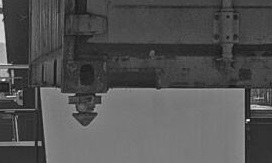Copy of Copy of twist_lock_2: (61, 85, 107, 129)
